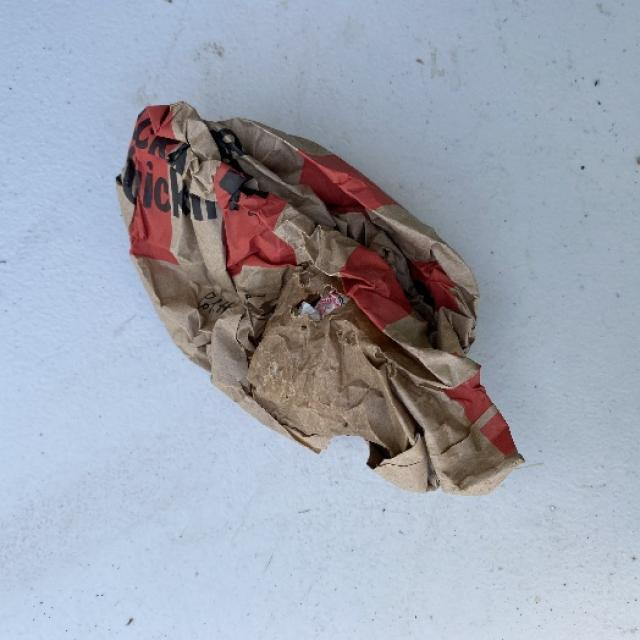inorganic: (108, 105, 527, 504)
